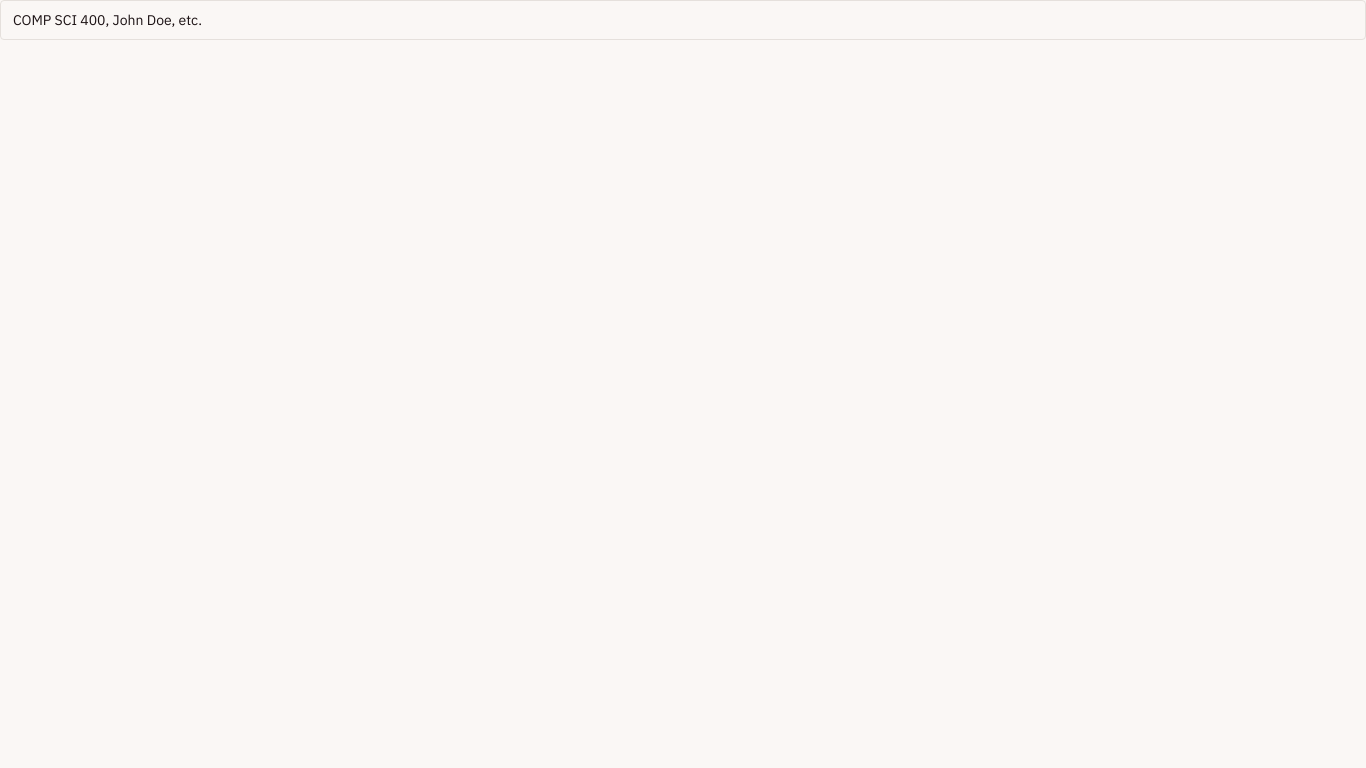
Test: SearchAutocomplete › Escape closes the dropdown but keeps the typed text
Type "comp" into the dropdown.
click(683, 20); type("comp")  # box [0,0,1365,40]
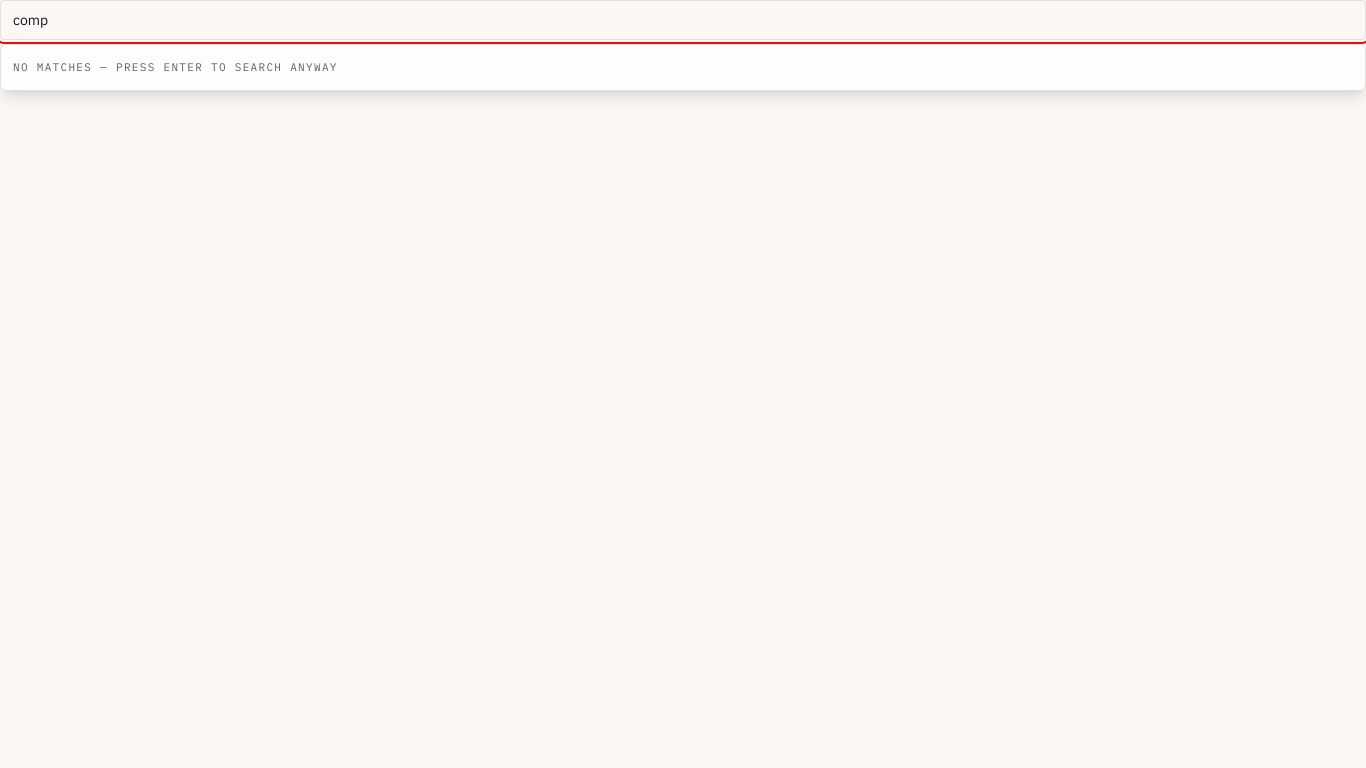
Expected: the list is shown, [13,60,338,74]
Press Escape
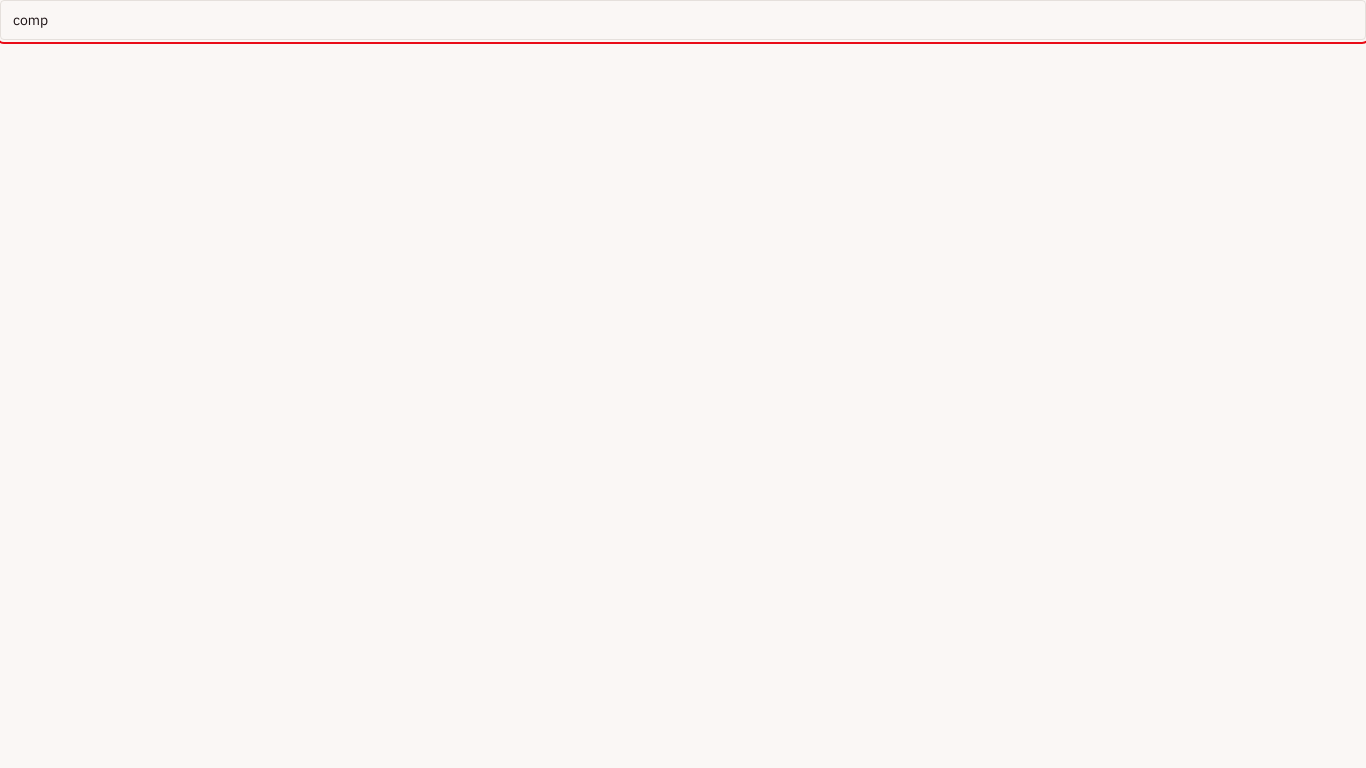
Expected: the list is gone
